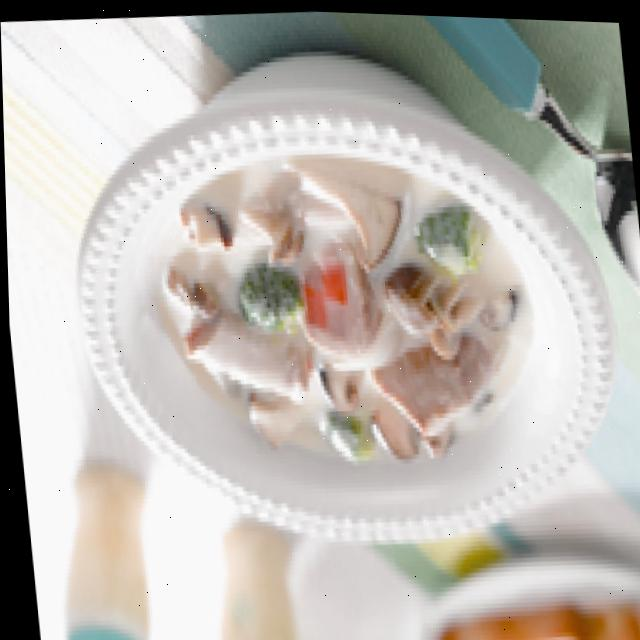汤锅炖物: (54, 27, 633, 578)
